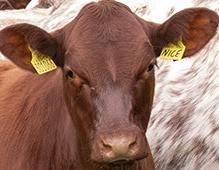muzzles: (87, 130, 153, 165)
